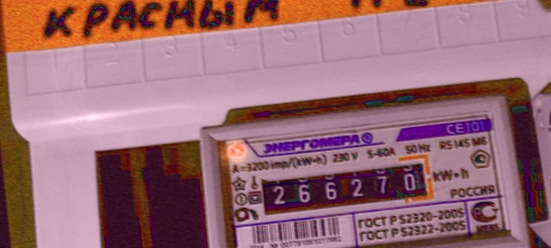0: (404, 169, 418, 191)
2: (273, 181, 289, 204), (352, 174, 366, 196)
6: (299, 181, 314, 202), (325, 178, 340, 198)
7: (376, 172, 392, 194)
screen: (252, 147, 444, 224)
